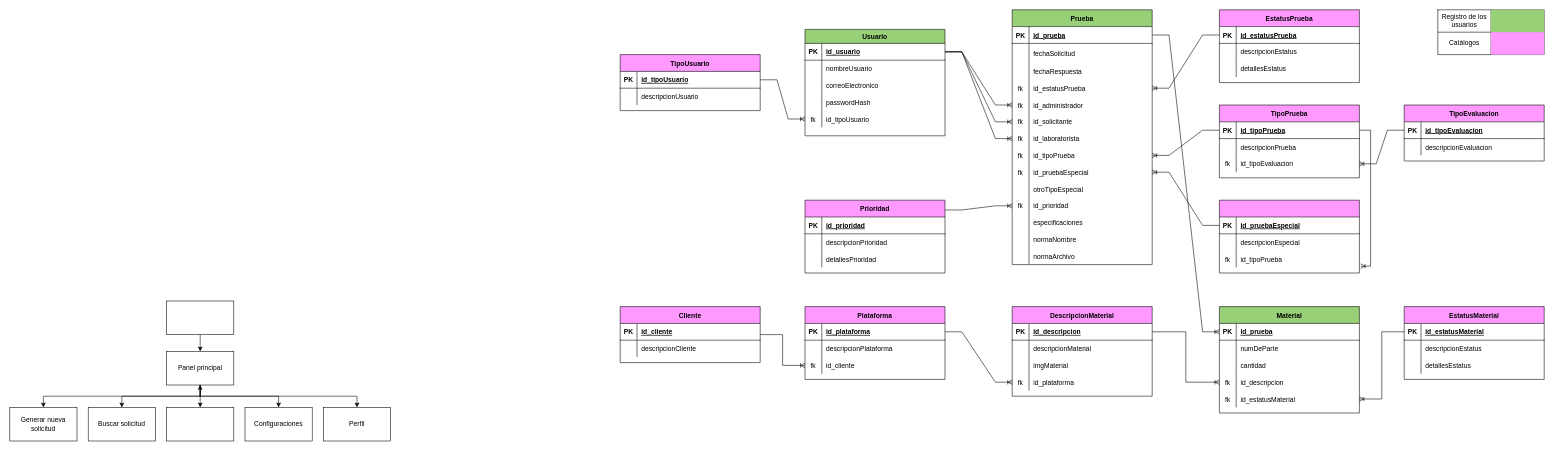
Some shapes in this 1554 by 451 pixel diagram are drawn without their labels. Here are the shapes that lost their labels. From the top down, the box of each, then its label:
(1219, 200, 1359, 273): TipoPruebaEspecial
(166, 300, 234, 335): Inicio
(166, 407, 234, 441): Generar reporte
